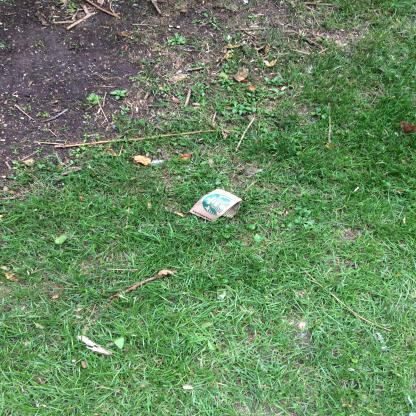karton: (191, 189, 244, 223)
